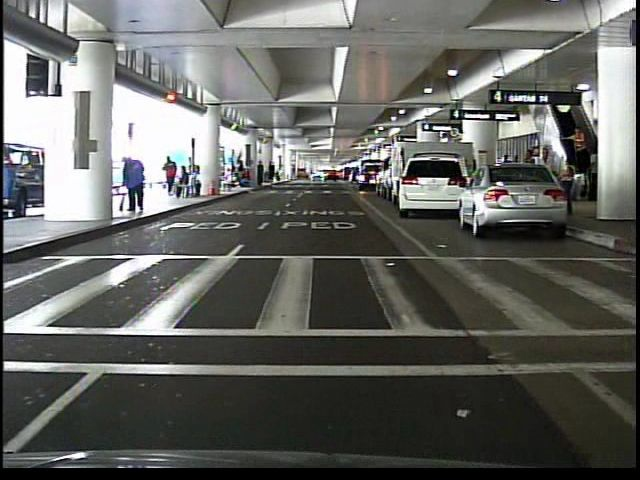person: (121, 152, 151, 216), (565, 122, 589, 171)
